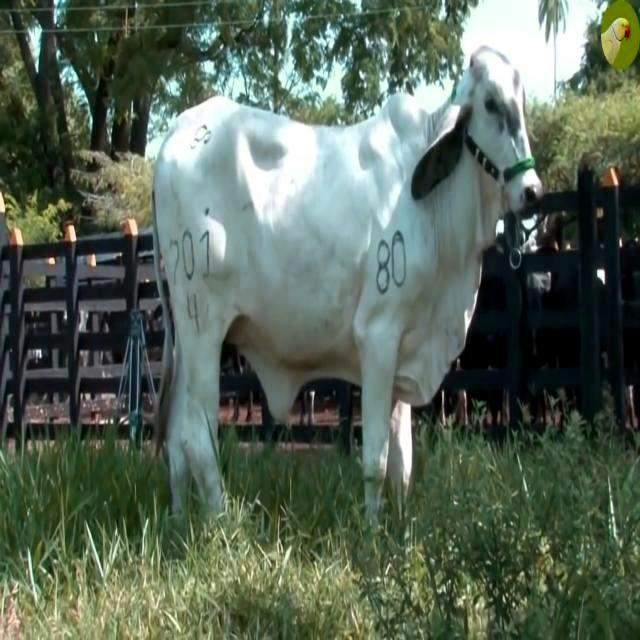COW: (156, 48, 541, 521)
